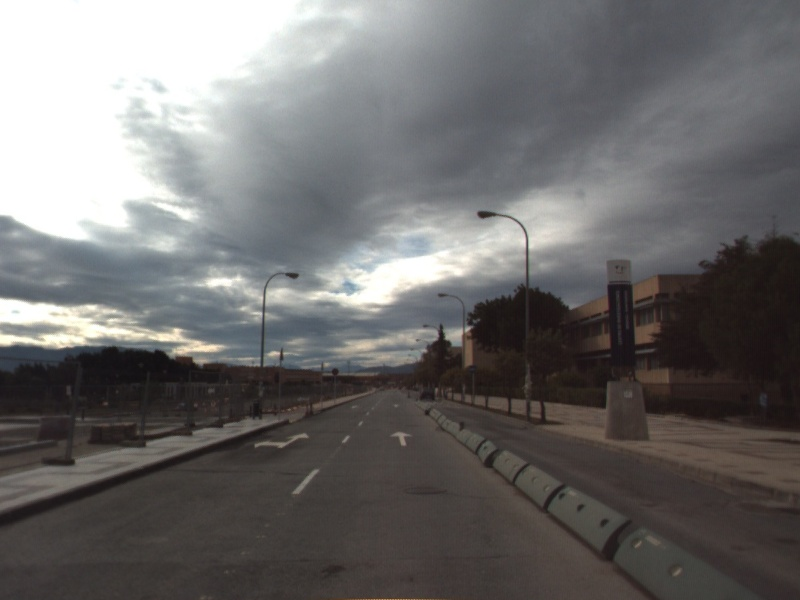STRAIGHT: (388, 429, 415, 448)
STRAIGHT_LEFT: (252, 431, 311, 450)
